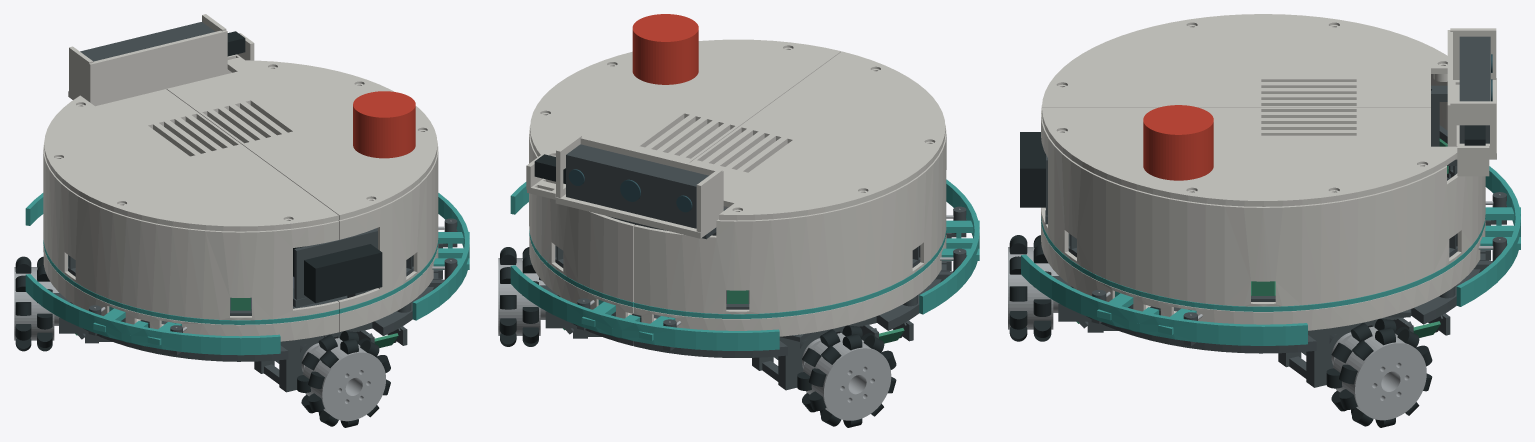
Rendered from assembly.glb.
The picture shows the model from 3 angles, left to right: view 1: azimuth 30°, elevation 25°; view 2: azimuth 150°, elevation 25°; view 3: azimuth 270°, elevation 25°; orthographic projection. The views are drawn at different scales.
Parts seen in each view (by area): view 1: shell-left, lid-left, lid-right, shell-right, camera-saddle, bumper-210, wheel-core-270, stop-button, main-rocker-actuator, wheel-rollers-270, bumper-330, wheel-rollers-150 (+10 smaller); view 2: shell-left, lid-left, lid-right, shell-right, oak-body, bumper-90, camera-saddle, wheel-core-150, stop-button, bumper-210, wheel-rollers-150, deck-left (+9 smaller); view 3: shell-right, lid-left, lid-right, bumper-330, wheel-core-30, stop-button, camera-saddle, wheel-rollers-30, bumper-90, deck-right, trim-right, wheel-rollers-270 (+8 smaller).
Boxes of the visible parts, left/top/right/bottom form: shell-left: left=43, top=140, right=339, bottom=341; lid-left: left=44, top=89, right=338, bottom=231; lid-right: left=166, top=60, right=437, bottom=220; shell-right: left=338, top=141, right=438, bottom=331; camera-saddle: left=68, top=14, right=227, bottom=106; bumper-210: left=25, top=274, right=280, bottom=355; wheel-core-270: left=302, top=338, right=385, bottom=421; stop-button: left=353, top=91, right=415, bottom=158; main-rocker-actuator: left=304, top=244, right=382, bottom=303; wheel-rollers-270: left=297, top=331, right=390, bottom=427; bumper-330: left=412, top=193, right=469, bottom=320; wheel-rollers-150: left=15, top=256, right=52, bottom=351; shell-left: left=634, top=125, right=946, bottom=336; lid-left: left=690, top=51, right=945, bottom=220; lid-right: left=530, top=39, right=841, bottom=162; shell-right: left=529, top=125, right=634, bottom=318; oak-body: left=566, top=144, right=708, bottom=228; bumper-90: left=510, top=265, right=779, bottom=350; camera-saddle: left=555, top=135, right=723, bottom=238; wheel-core-150: left=803, top=333, right=891, bottom=420; stop-button: left=632, top=14, right=698, bottom=84; bumper-210: left=919, top=179, right=979, bottom=314; wheel-rollers-150: left=797, top=325, right=896, bottom=427; deck-left: left=634, top=279, right=944, bottom=357; shell-right: left=1041, top=114, right=1485, bottom=330; lid-left: left=1042, top=14, right=1447, bottom=107; lid-right: left=1042, top=107, right=1457, bottom=206; bumper-330: left=1021, top=254, right=1307, bottom=345; wheel-core-30: left=1333, top=326, right=1426, bottom=420; stop-button: left=1143, top=105, right=1213, bottom=180; camera-saddle: left=1447, top=28, right=1496, bottom=159; wheel-rollers-30: left=1326, top=319, right=1432, bottom=427; bumper-90: left=1456, top=166, right=1520, bottom=306; deck-right: left=1052, top=269, right=1483, bottom=353; trim-right: left=1041, top=215, right=1485, bottom=311; wheel-rollers-270: left=1009, top=235, right=1051, bottom=341.
Bounding box in the file's own units: 0.292 × 0.1716 × 0.2906.
